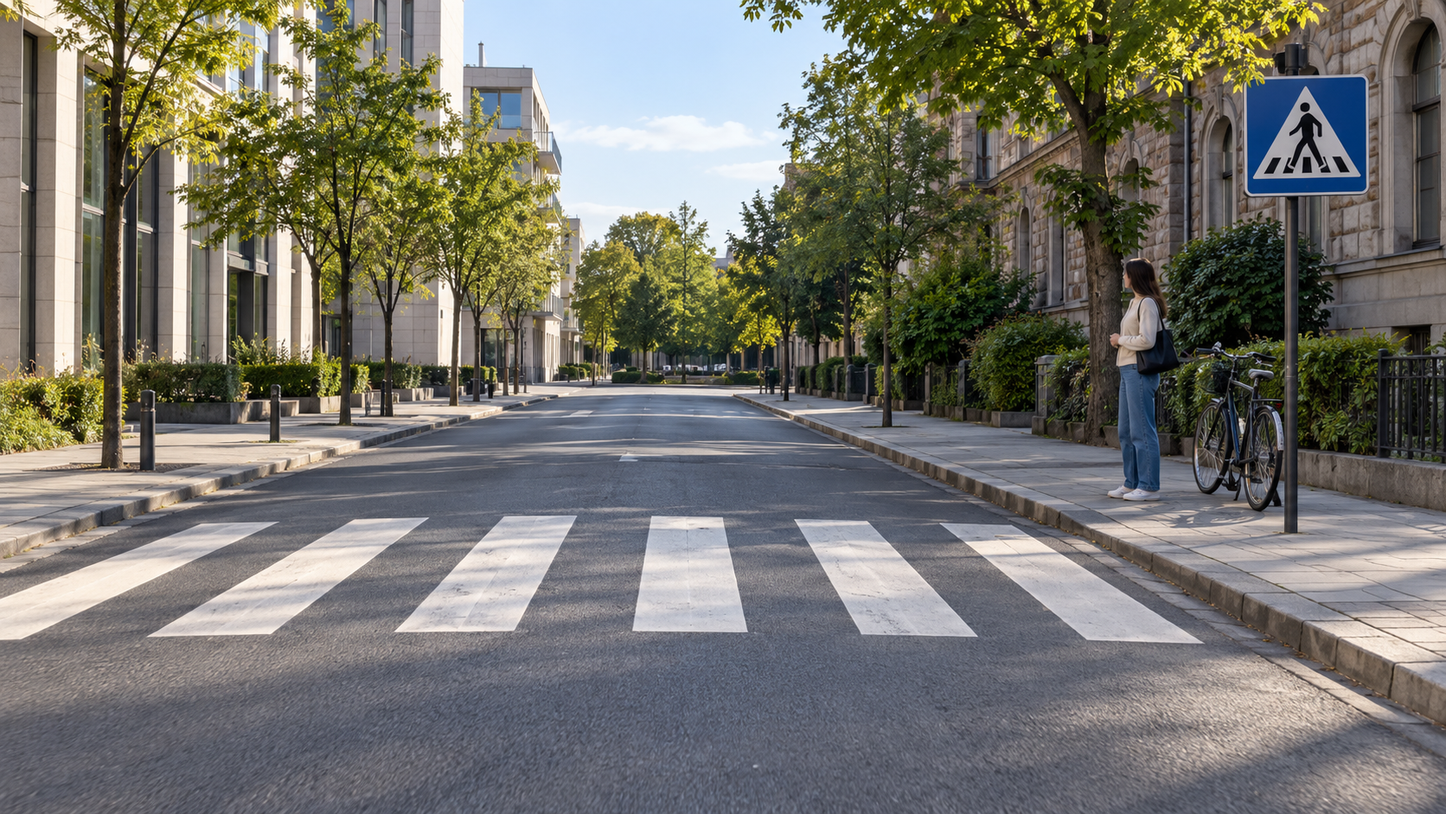bicycle: (1258, 273, 1321, 443)
crossing_warning_sign: (1297, 79, 1407, 186)
person: (1254, 247, 1300, 434)
zebra_crossing: (0, 457, 1397, 585)
